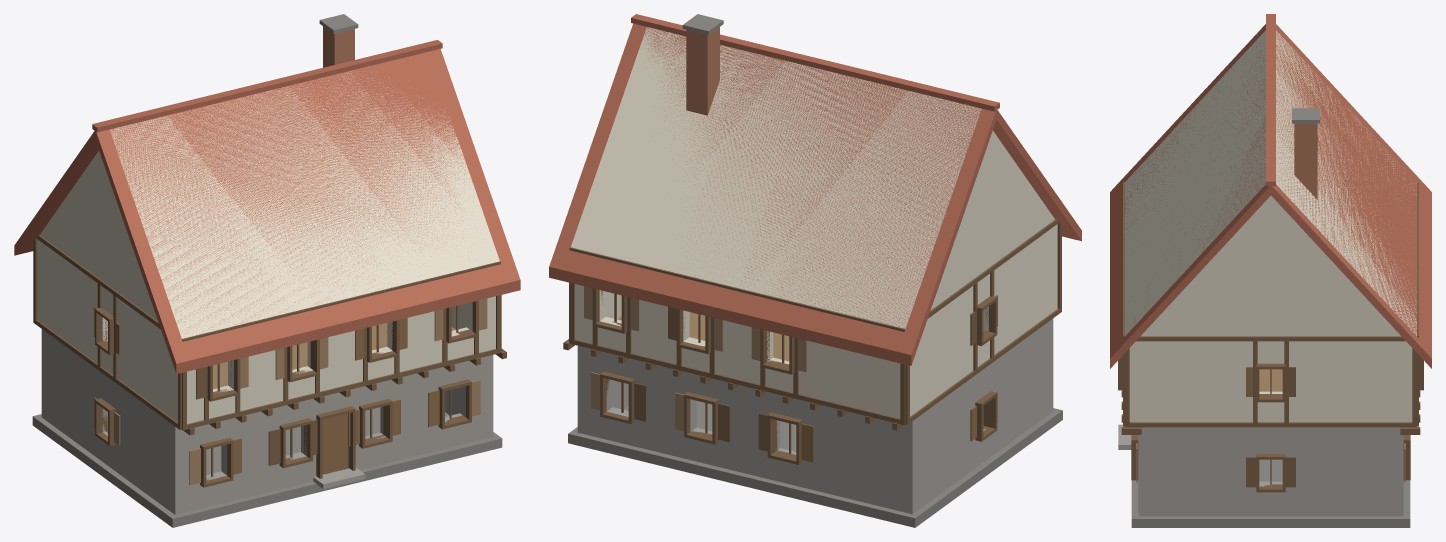
File: House_Tavern.fbx
3 views of the same model, side by side, from view 1: azimuth 30°, elevation 25°; view 2: azimuth 150°, elevation 25°; view 3: azimuth 270°, elevation 25° (orthographic). The views are drawn at different scales.
Parts seen in each view (by area): view 1: House_Tavern; view 2: House_Tavern; view 3: House_Tavern.
Part boxes in pixels (left/top/right/bottom): House_Tavern: left=14, top=14, right=520, bottom=527; House_Tavern: left=549, top=14, right=1081, bottom=527; House_Tavern: left=1110, top=14, right=1431, bottom=527.
Bounding box in the file's own units: 11.95 × 9.7 × 12.54.
